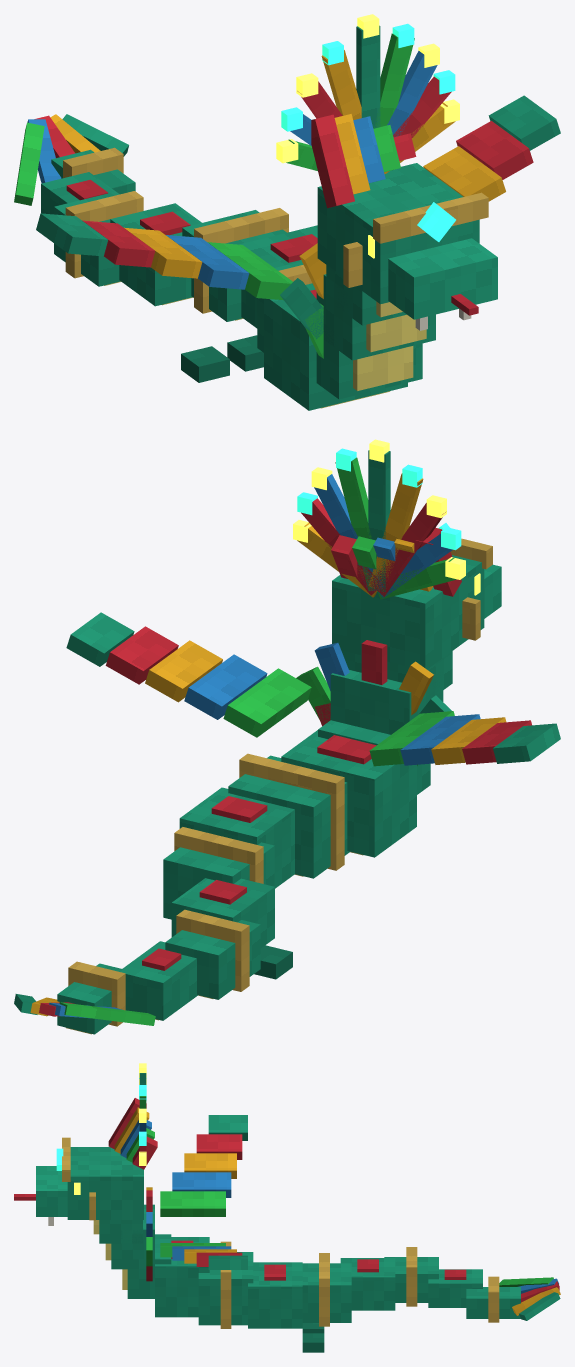
File: quetzal.glb
The picture shows the model from 3 angles, top to bottom: view 1: azimuth 30°, elevation 25°; view 2: azimuth 150°, elevation 25°; view 3: azimuth 270°, elevation 25°; orthographic projection. The views are drawn at different scales.
Parts seen in each view (by area): view 1: Head, Torso, ArmR, ArmL, LegR, LegL; view 2: Torso, Head, ArmL, ArmR, LegR; view 3: Torso, Head, ArmR, ArmL, LegL.
Part boxes in pixels (<box>): Head: <box>276,14,497,330</box>; Torso: <box>14,114,435,410</box>; ArmR: <box>36,213,292,300</box>; ArmL: <box>423,95,560,201</box>; LegR: <box>181,346,229,382</box>; LegL: <box>227,335,263,371</box>; Torso: <box>14,640,452,1034</box>; Head: <box>293,439,501,669</box>; ArmL: <box>66,612,311,737</box>; ArmR: <box>369,711,560,766</box>; LegR: <box>254,945,292,979</box>; Torso: <box>93,1187,560,1328</box>; Head: <box>14,1063,157,1225</box>; ArmR: <box>160,1115,247,1216</box>; ArmL: <box>160,1243,247,1269</box>; LegL: <box>302,1333,324,1352</box>.
Size of the model in its own units: 1.59 by 1.39 by 2.5.
12 materials, 12 textured.
